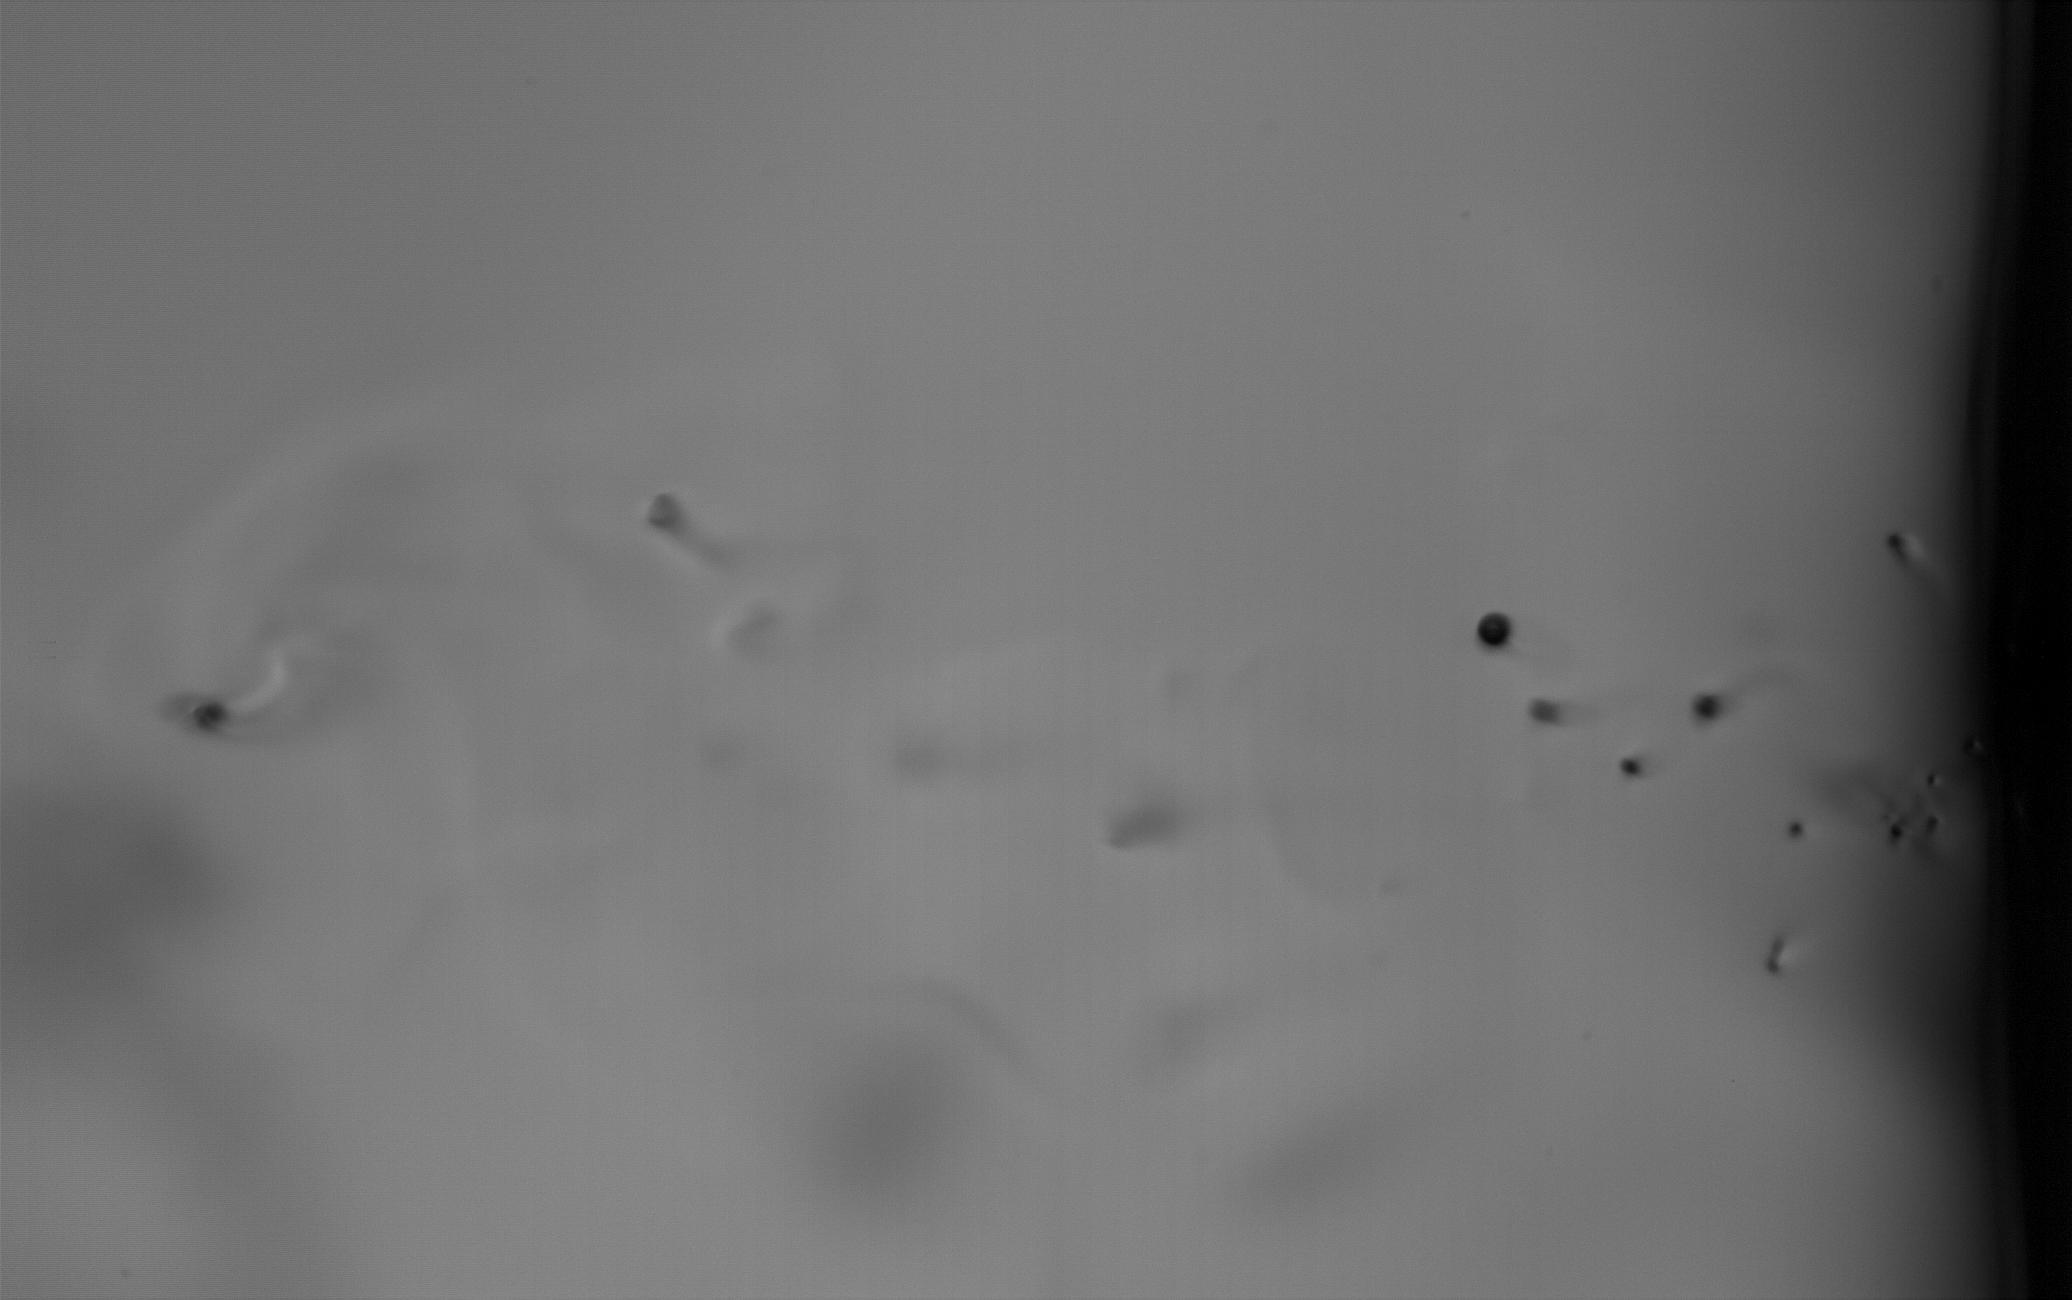Blurry: (719, 599, 787, 674), (879, 734, 948, 794), (683, 729, 750, 789)
ClassicalEvaporation: (1470, 610, 1515, 651), (1883, 527, 1919, 574), (1521, 692, 1564, 726), (1689, 687, 1722, 729), (1880, 812, 1910, 855), (1609, 753, 1647, 782), (1919, 807, 1940, 845), (1782, 818, 1809, 845), (1922, 765, 1945, 795)
DiffusiveMixing: (168, 666, 283, 743), (639, 491, 723, 559)
TransitionalMixing: (1088, 795, 1177, 860), (1756, 929, 1788, 982)
